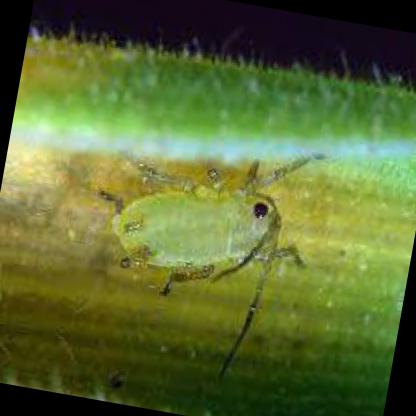schizaphis graminum: (101, 153, 323, 370)
